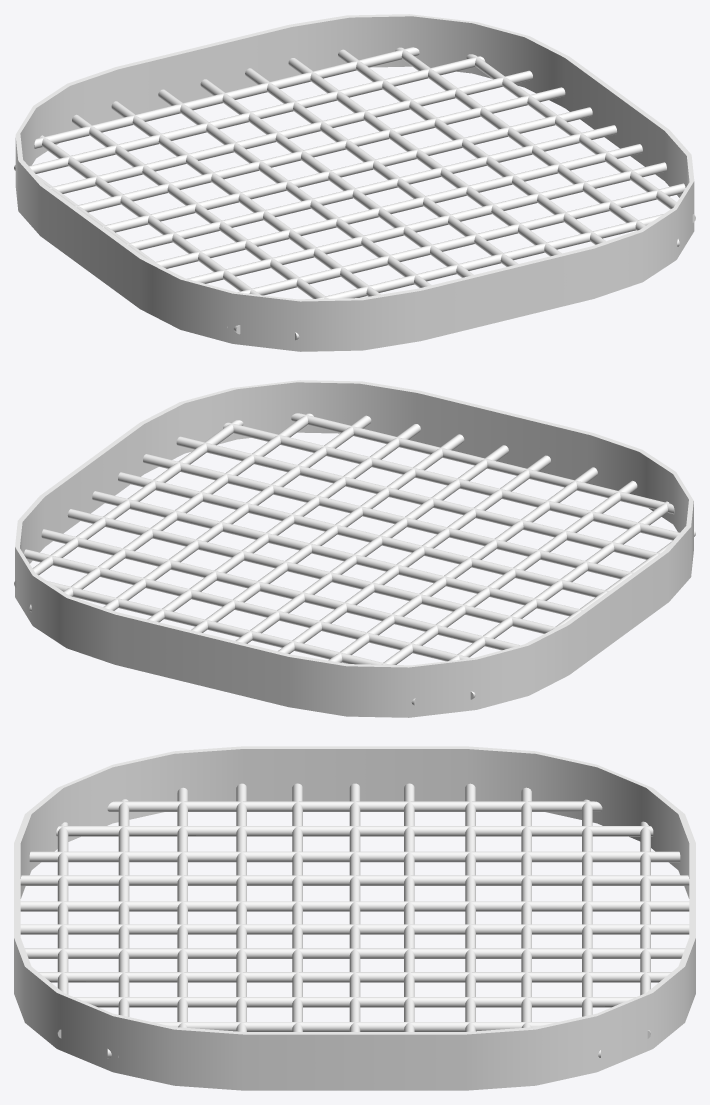
File: rihuto.fbx
The picture shows the model from 3 angles, top to bottom: view 1: azimuth 30°, elevation 25°; view 2: azimuth 150°, elevation 25°; view 3: azimuth 270°, elevation 25°; orthographic projection. The views are drawn at different scales.
Visible parts, largest first — view 1: rihuto; view 2: rihuto; view 3: rihuto.
Boxes of the visible parts, x1,y1,x2,y2 form: rihuto: (14,14,695,351); rihuto: (14,380,695,717); rihuto: (14,746,695,1090).
Size of the model in its own units: 58.65 by 5.33 by 58.65.
Materials: 1 (1 with a texture image).
